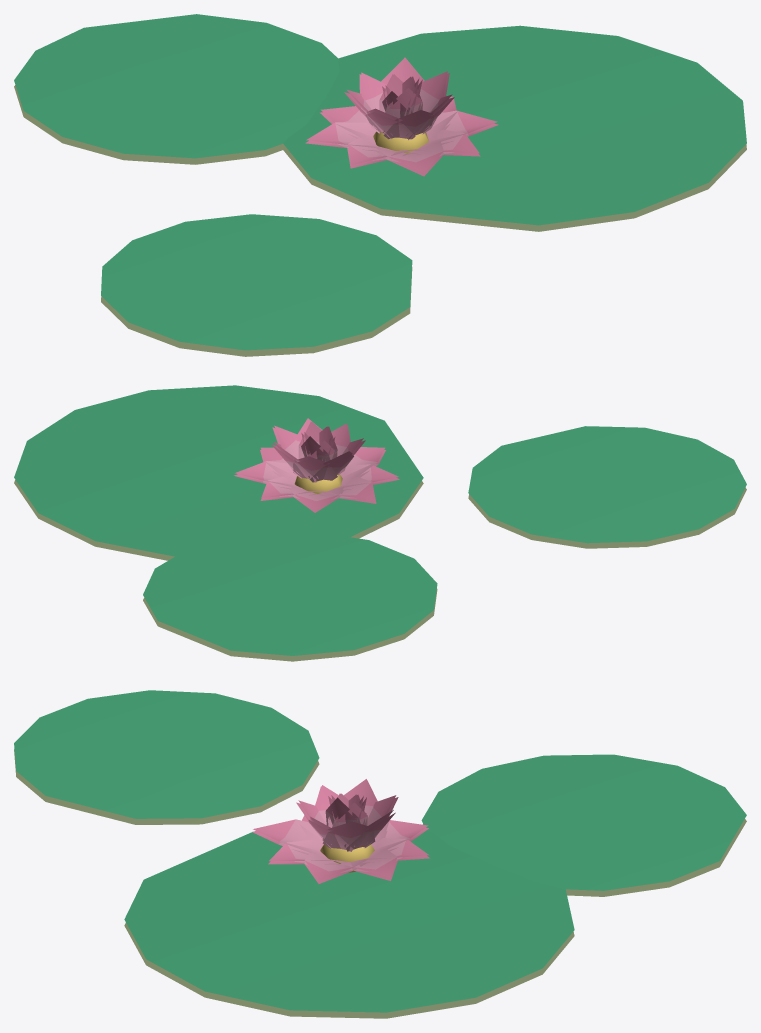
File: ing_water_lily.gltf
3 views of the same model, one above another, from view 1: azimuth 30°, elevation 25°; view 2: azimuth 150°, elevation 25°; view 3: azimuth 270°, elevation 25° (orthographic). The views are drawn at different scales.
Visible parts, largest first — view 1: ing_water_lily; view 2: ing_water_lily; view 3: ing_water_lily.
Part boxes in pixels (<box>): ing_water_lily: <box>14,14,746,356</box>; ing_water_lily: <box>14,385,746,661</box>; ing_water_lily: <box>14,690,746,1018</box>.
Size of what is drawn, in the model's own units: 0.6752 by 0.0783 by 0.6486.
